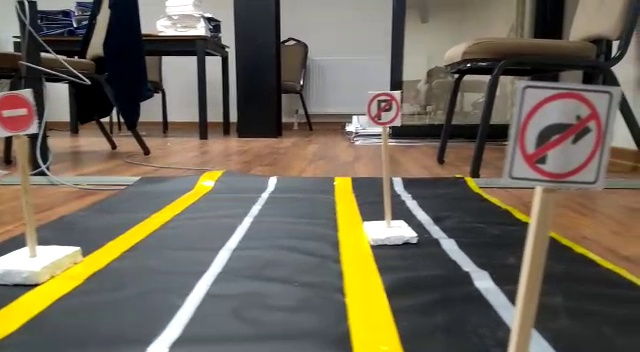girisi_olmayan_yol: (1, 90, 40, 132)
park_yapilmaz: (368, 91, 401, 126)
saga_donulmez: (521, 80, 601, 185)
